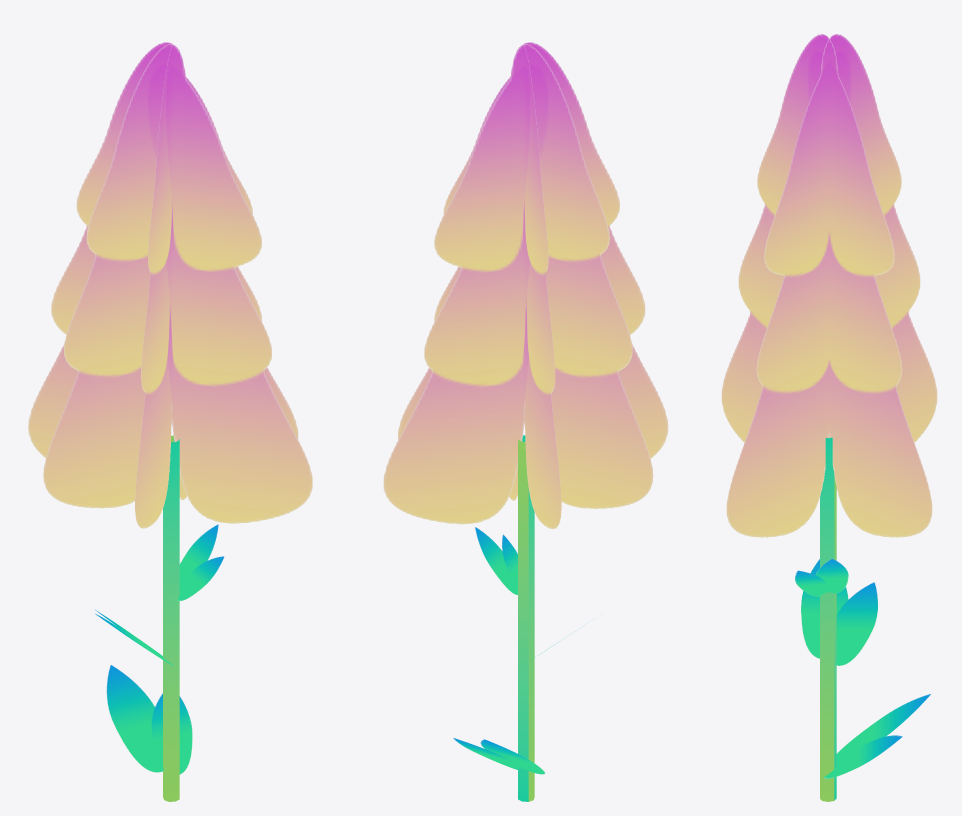
The model's file is Flowers_n02_10.fbx.
The picture shows the model from 3 angles, left to right: view 1: azimuth 30°, elevation 25°; view 2: azimuth 150°, elevation 25°; view 3: azimuth 270°, elevation 25°; orthographic projection.
Parts seen in each view (by area): view 1: polySurface201; view 2: polySurface201; view 3: polySurface201.
Part boxes in pixels (x1,y1,x2,y2): polySurface201: (28,42,312,801); polySurface201: (383,42,668,801); polySurface201: (721,34,937,801).
Size of the model in its own units: 16.46 by 42.75 by 11.64.
Materials: 1 (1 with a texture image).
